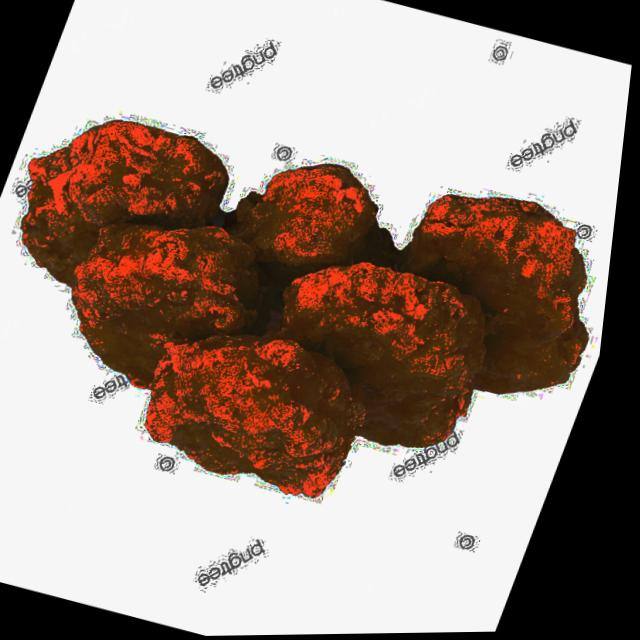chicken_nuggets: (353, 168, 620, 433), (232, 238, 520, 475), (101, 299, 392, 520), (35, 191, 303, 416), (0, 88, 242, 333), (183, 135, 430, 331)
